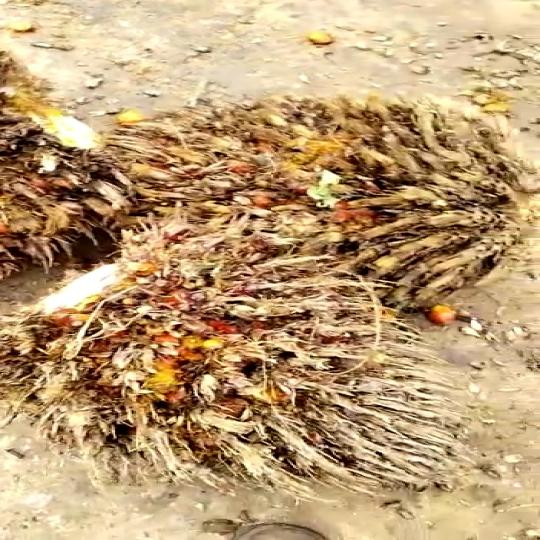terlalu masak: (0, 269, 462, 503), (96, 85, 540, 293)
